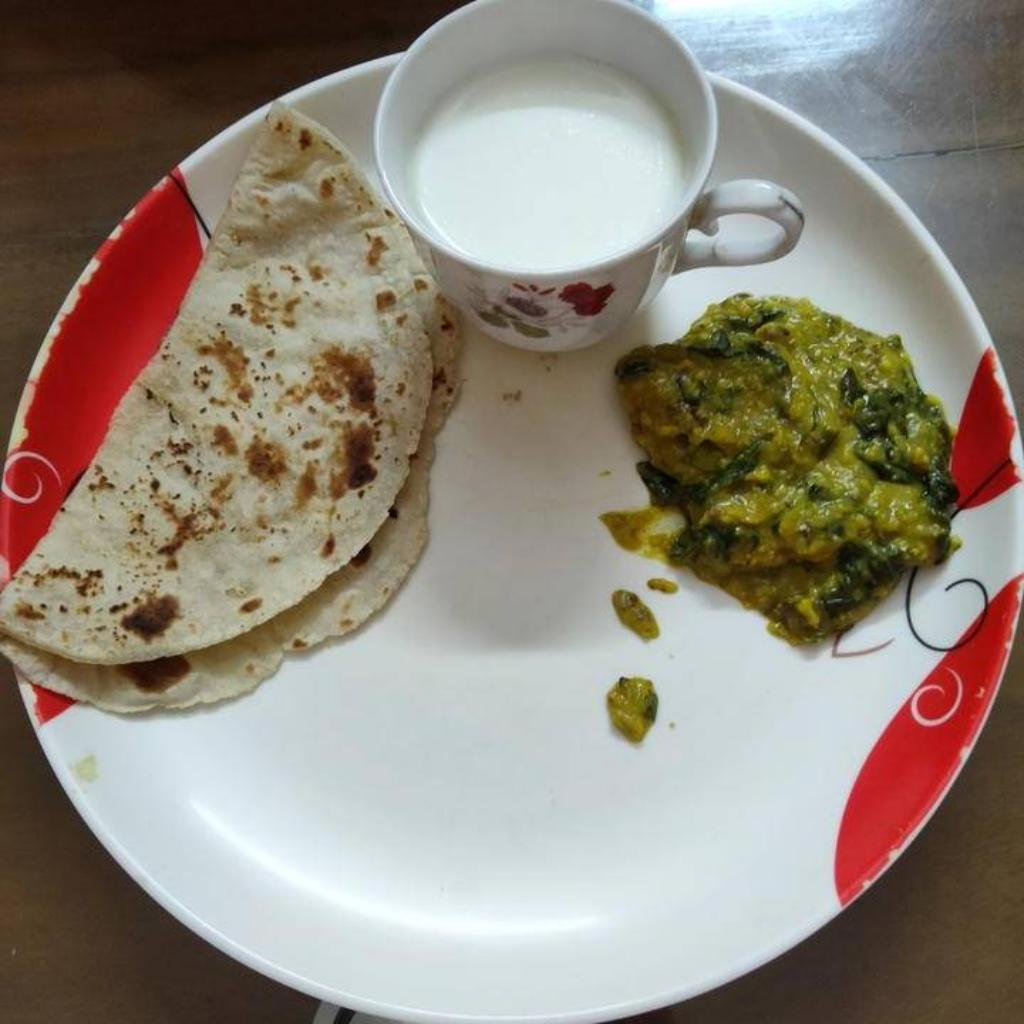milk: (405, 57, 687, 273)
ruti: (0, 107, 461, 711)
vorta: (617, 294, 956, 646)
